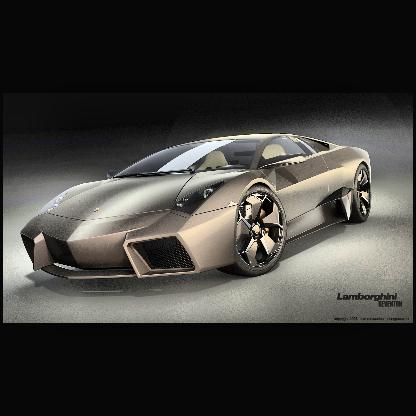Lamborghini Reventon Coupe 2008: (21, 134, 374, 287)
